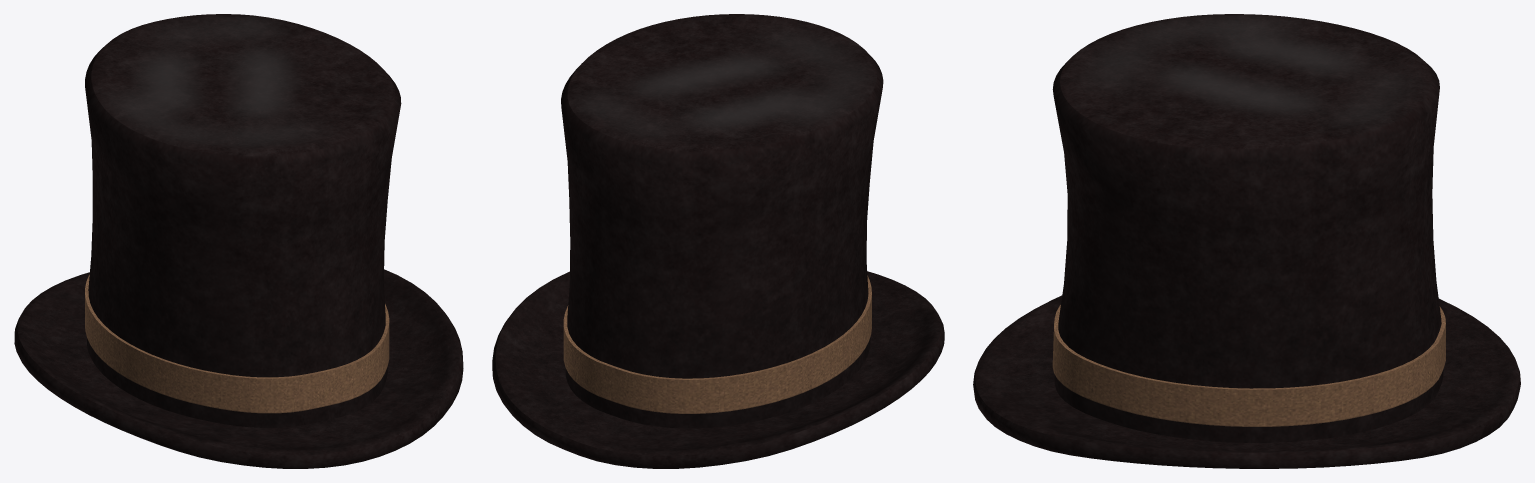
File: Hat_Cafe.glb
The picture shows the model from 3 angles, left to right: view 1: azimuth 30°, elevation 25°; view 2: azimuth 150°, elevation 25°; view 3: azimuth 270°, elevation 25°; orthographic projection. The views are drawn at different scales.
Parts seen in each view (by area): view 1: tophat.001; view 2: tophat.001; view 3: tophat.001.
Boxes of the visible parts, <box> form: tophat.001: <box>14,14,463,468</box>; tophat.001: <box>492,14,944,468</box>; tophat.001: <box>973,14,1520,468</box>.
Size of the model in its own units: 0.5177 by 0.3848 by 0.6021.
1 material, 1 textured.
